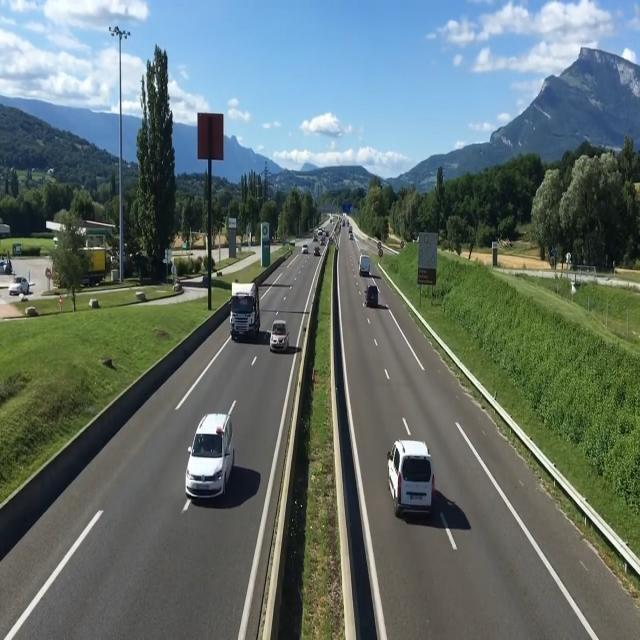Car: (184, 413, 235, 499), (268, 319, 289, 353), (8, 276, 30, 296), (364, 284, 380, 306), (301, 244, 309, 254), (313, 246, 321, 256)
Truck: (228, 280, 262, 340)
Van: (386, 438, 436, 519), (358, 255, 371, 276)
